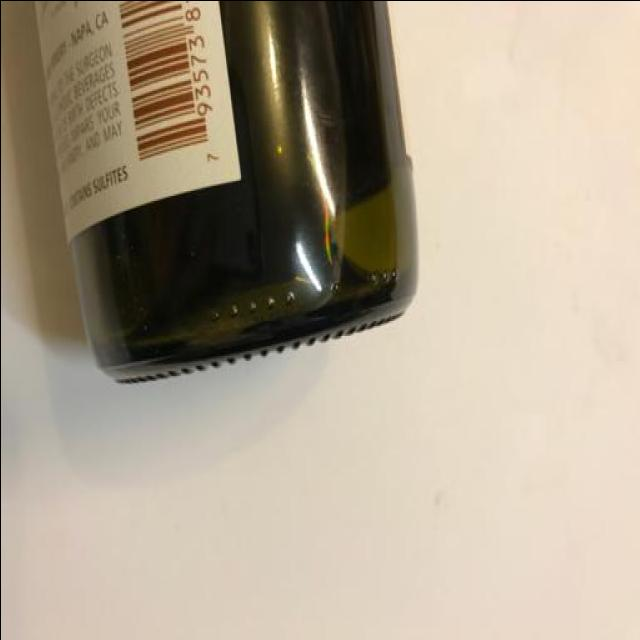glass: (0, 0, 425, 403)
